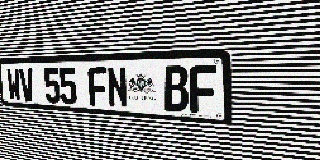5: (59, 67, 78, 105), (43, 68, 61, 104)
B: (163, 66, 189, 112)
F: (189, 65, 217, 114), (87, 67, 108, 107)
N: (106, 67, 128, 108)
V: (19, 68, 35, 102)
W: (6, 68, 22, 101)
